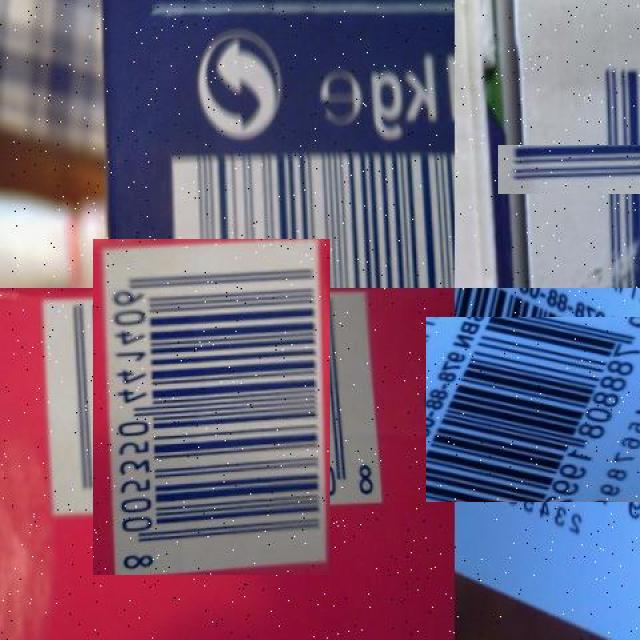Barcode: (68, 263, 355, 550), (441, 302, 640, 517), (169, 145, 455, 288), (545, 98, 640, 241)
